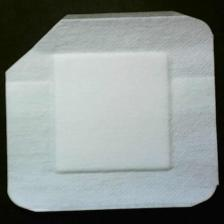Cut: (6, 10, 220, 214)
